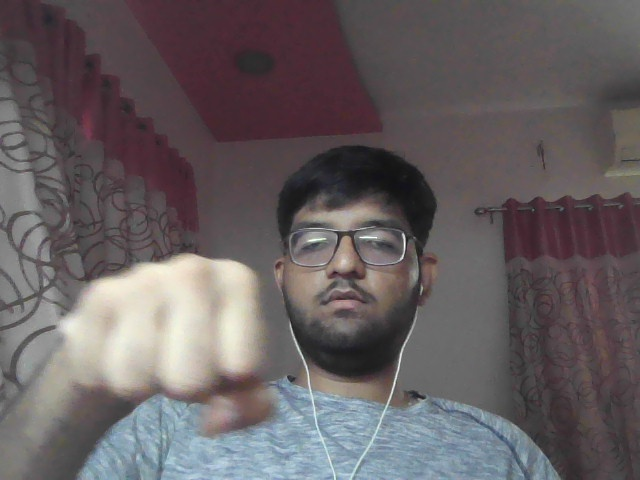હા: (55, 240, 297, 437)
